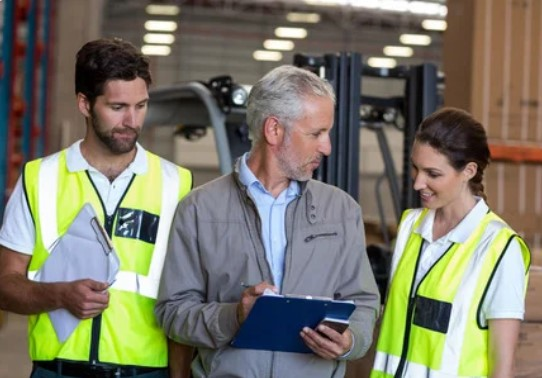worker: (24, 39, 191, 369), (372, 108, 529, 378)
